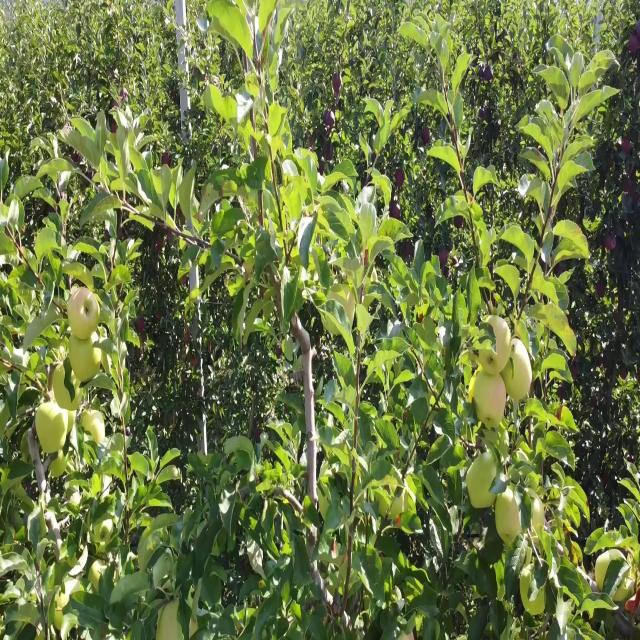apple: (505, 334, 532, 405), (36, 405, 72, 455), (476, 376, 508, 430), (68, 291, 101, 340), (72, 334, 104, 384), (496, 490, 522, 548), (468, 463, 497, 512), (52, 369, 80, 418), (505, 355, 532, 405), (160, 604, 181, 638), (84, 412, 105, 446), (624, 575, 640, 617), (88, 561, 105, 594), (624, 583, 640, 617), (92, 412, 105, 446), (468, 369, 479, 405), (52, 455, 67, 478), (604, 234, 617, 256), (620, 135, 632, 156), (628, 37, 640, 57), (624, 177, 635, 197), (332, 78, 343, 96), (484, 63, 493, 84), (396, 170, 405, 188), (136, 319, 145, 334), (392, 206, 401, 220), (276, 348, 284, 363), (396, 511, 403, 526)
